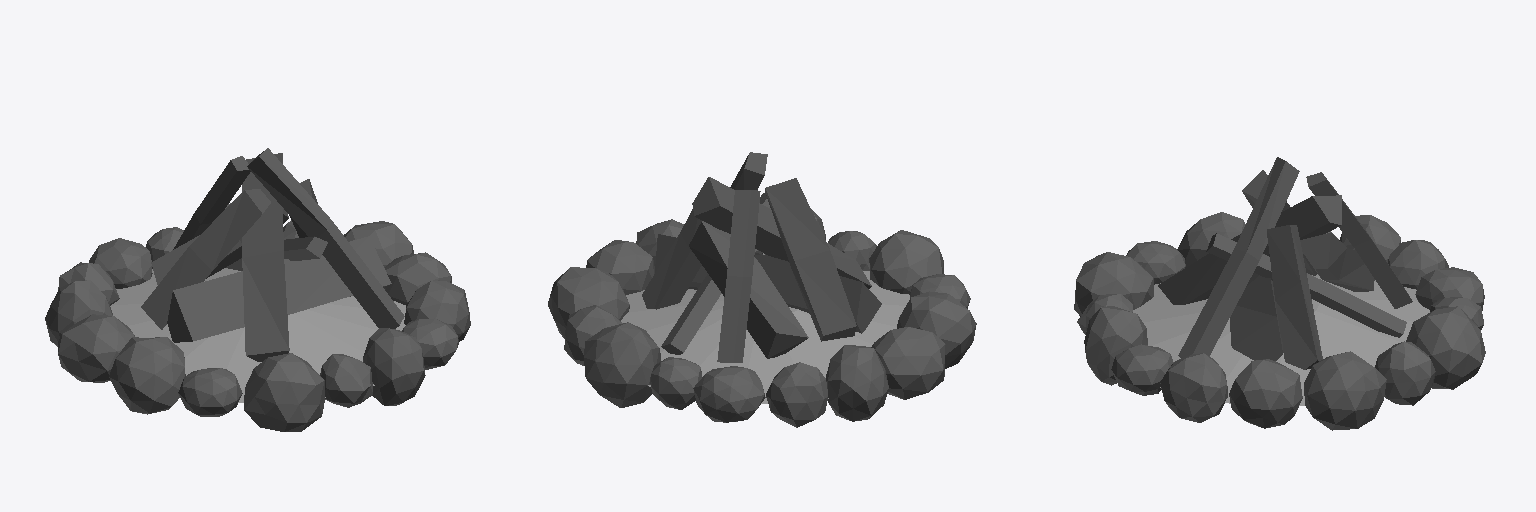
The model's file is bonfire.obj.
3 views of the same model, side by side, from view 1: azimuth 30°, elevation 25°; view 2: azimuth 150°, elevation 25°; view 3: azimuth 270°, elevation 25° (orthographic).
Parts seen in each view (by area): view 1: Bonfire_Cylinder; view 2: Bonfire_Cylinder; view 3: Bonfire_Cylinder.
Boxes of the visible parts, x1=… form: Bonfire_Cylinder: x1=45, y1=148, x2=470, y2=431; Bonfire_Cylinder: x1=548, y1=152, x2=976, y2=427; Bonfire_Cylinder: x1=1074, y1=157, x2=1485, y2=430.
Size of the model in its own units: 1.07 by 0.5606 by 1.02.